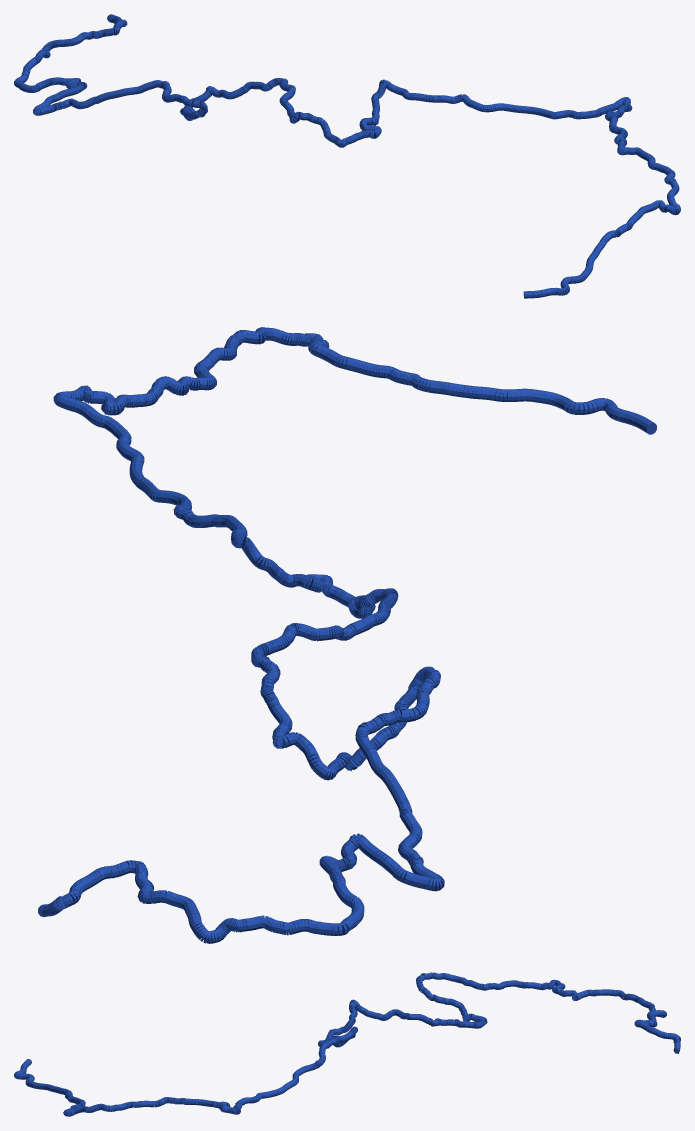
File: model_gpx_insert_traces.glb
The picture shows the model from 3 angles, top to bottom: view 1: azimuth 30°, elevation 25°; view 2: azimuth 150°, elevation 25°; view 3: azimuth 270°, elevation 25°; orthographic projection. The views are drawn at different scales.
Size of the model in its own units: 57.3 by 9.03 by 93.64.
